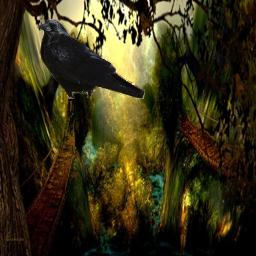Crow: (36, 19, 145, 99)
